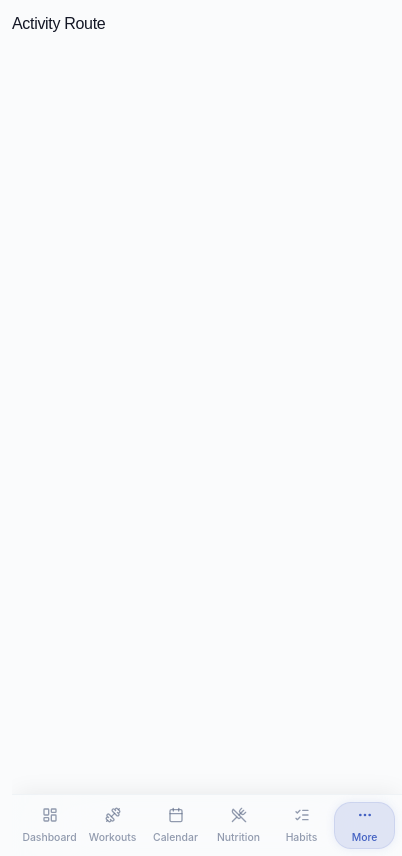
Test case: BottomNav › highlights More on more-menu routes and navigates from the dropdown
The image size is (402, 856).
What coordinates should you click on to do the following:
click the button "More"
I would click on:
 (364, 826)
Its box is [335,803,394,848].
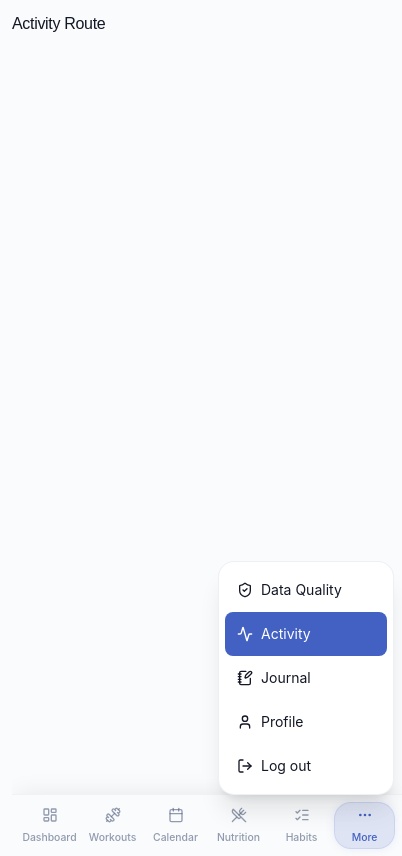
What coordinates should you click on to do the following:
click the menu item "Profile"
I would click on:
 (270, 722)
Its box is [237,713,304,730].
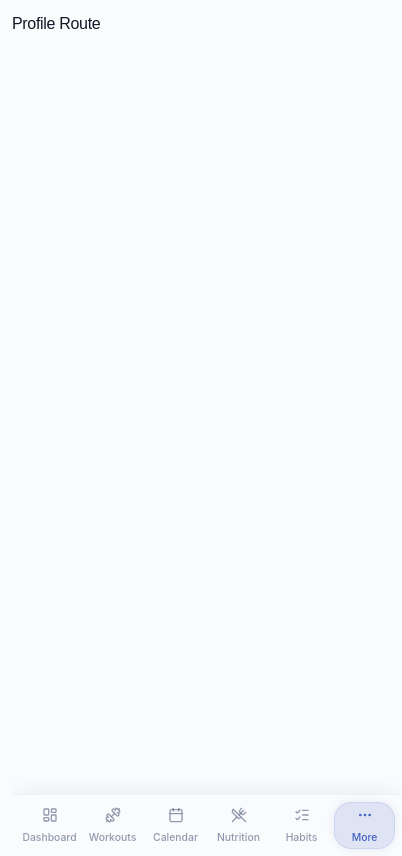
Expected: the heading "Profile Route" is shown, [12,15,100,32]
Expected: the menu is gone
